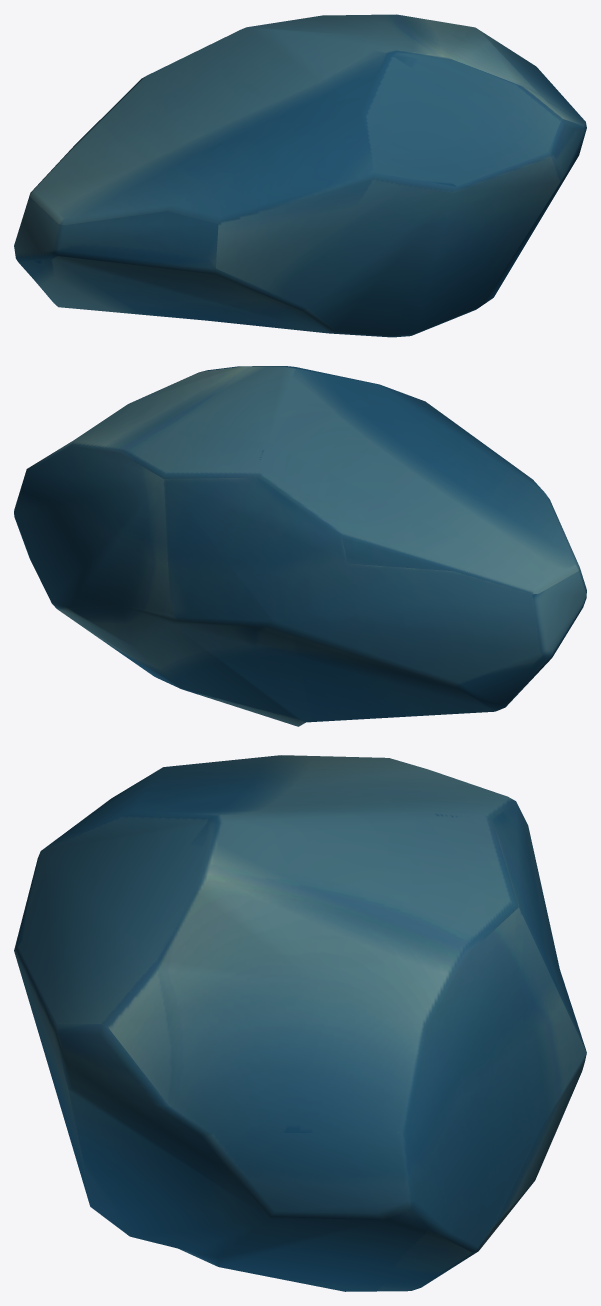
File: rock5.fbx
The picture shows the model from 3 angles, top to bottom: view 1: azimuth 30°, elevation 25°; view 2: azimuth 150°, elevation 25°; view 3: azimuth 270°, elevation 25°; orthographic projection. The views are drawn at different scales.
Visible parts, largest first — view 1: Rock05; view 2: Rock05; view 3: Rock05.
Boxes of the visible parts, box(x1,y1,x2,y2) form: Rock05: box(14, 14, 586, 337); Rock05: box(14, 366, 586, 726); Rock05: box(14, 755, 586, 1291).
Bounding box in the file's own units: 3.1 × 1.64 × 1.91.
Materials: 1 (1 with a texture image).
